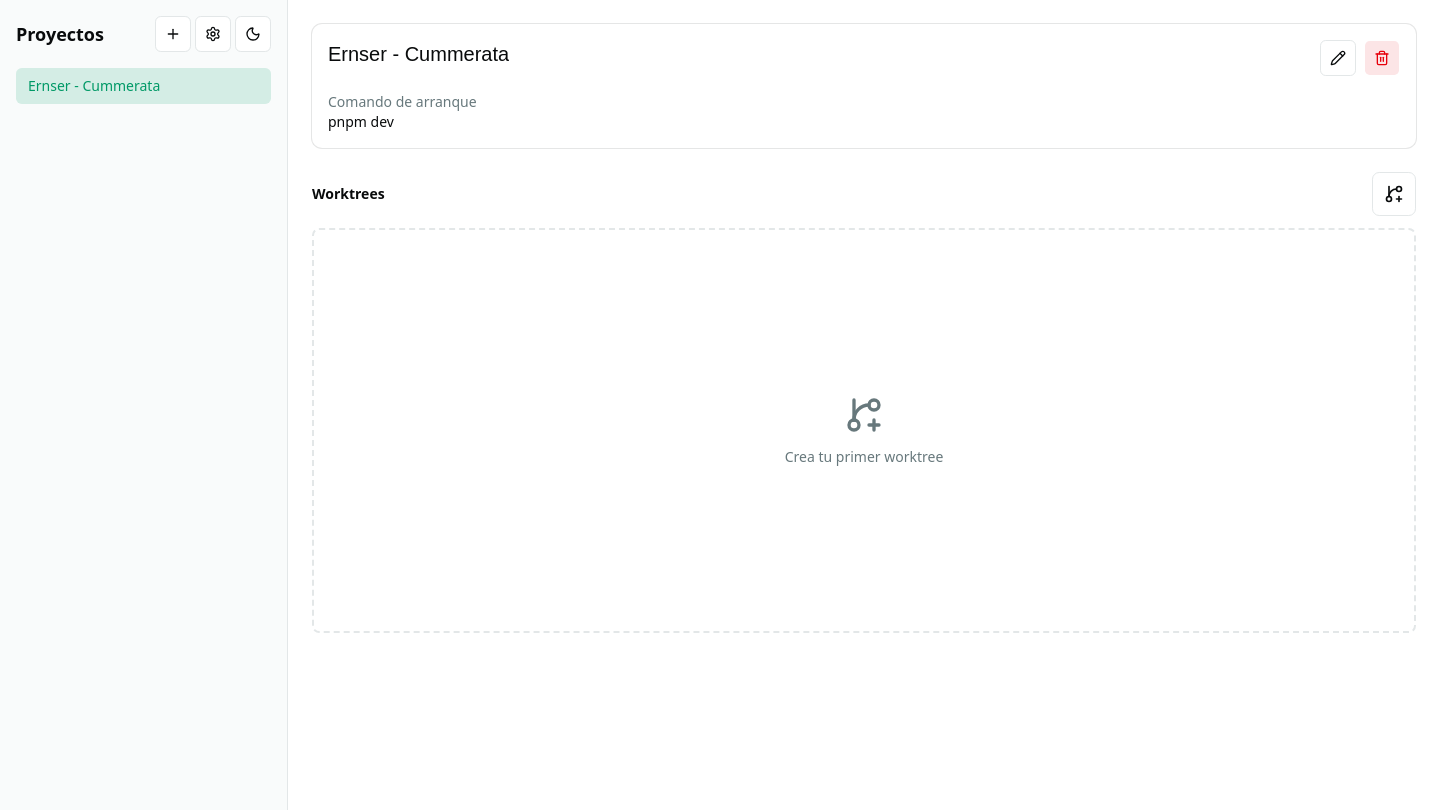
Test: app routes › should set the project's post-create command when the edit form is submitted
Click the button named "Editar proyecto". click: (1338, 58)
box: top-left (1320, 40), bottom-right (1356, 76)
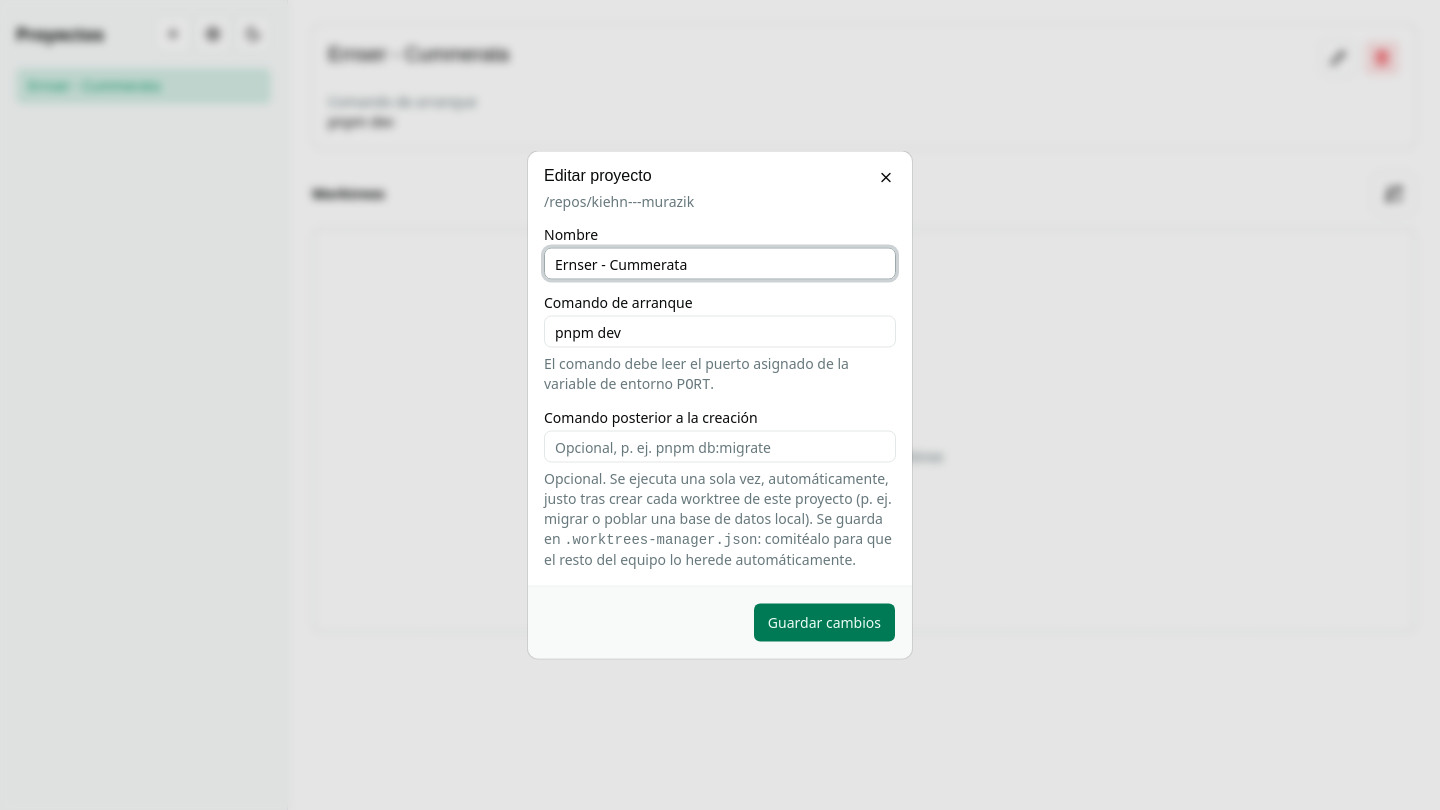
Type "pnpm db:migrate" into the field labelled "Comando posterior a la creación". click: (720, 446)
box: top-left (544, 430), bottom-right (896, 462)
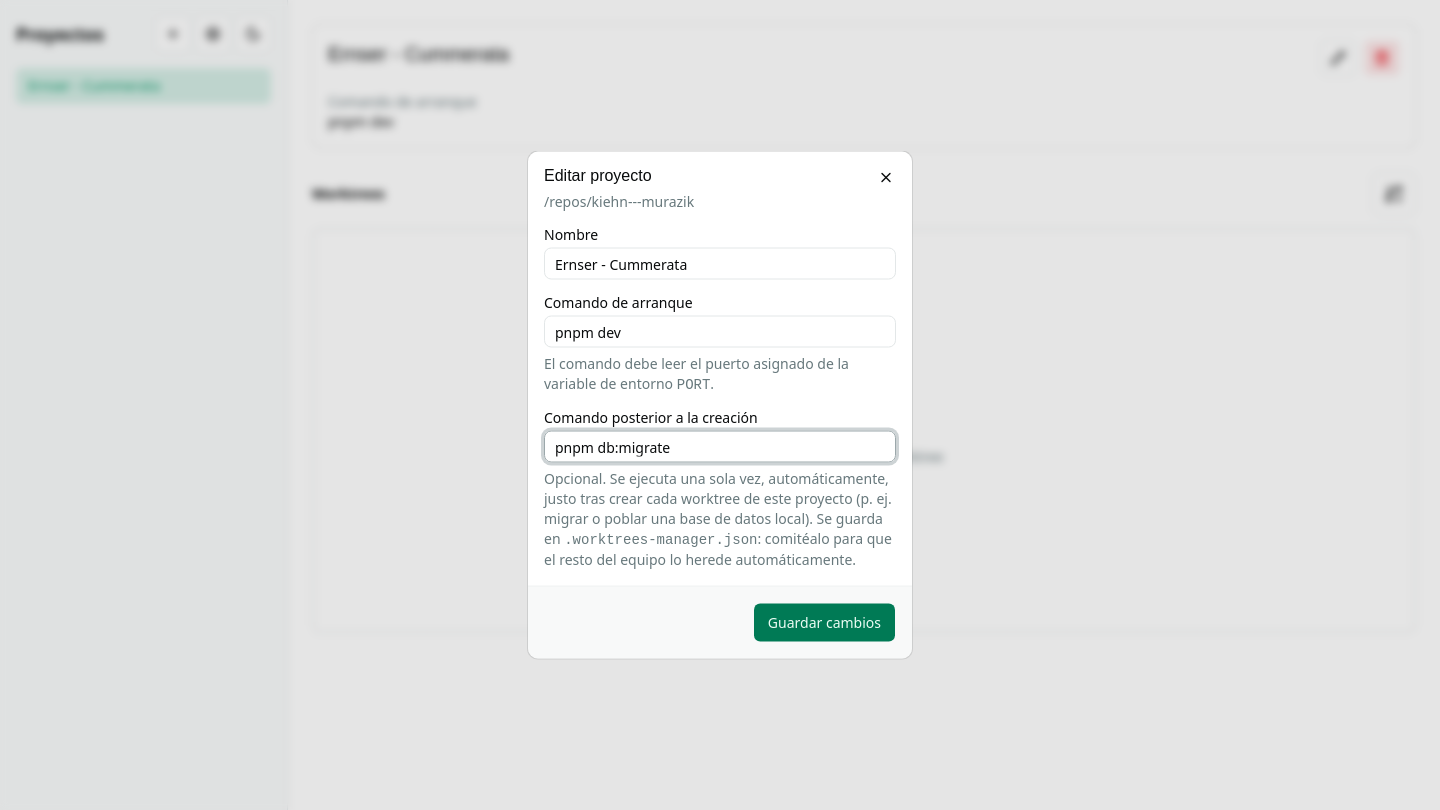
Click the button "Guardar cambios". click: (824, 622)
box: top-left (753, 602), bottom-right (896, 642)
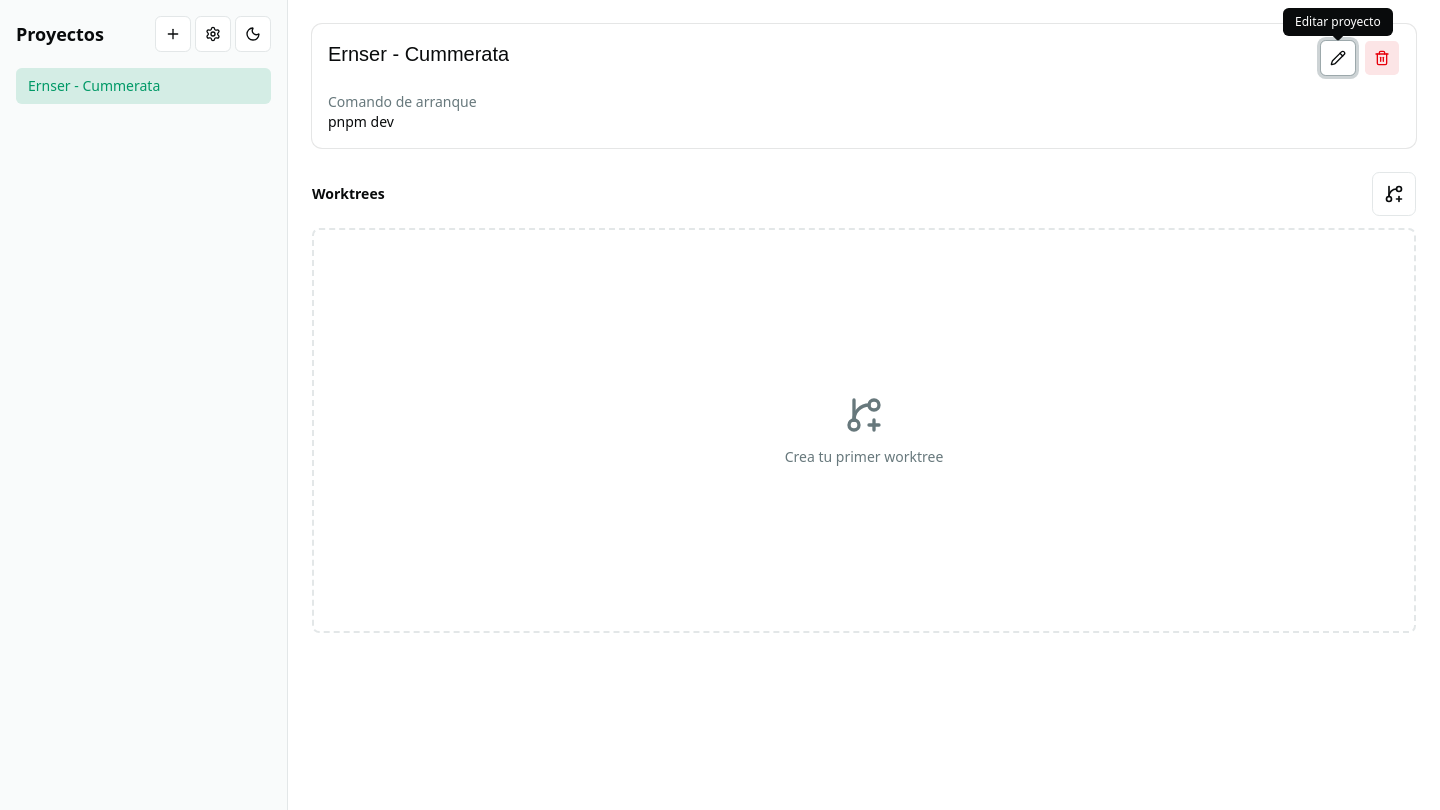
Now the label labelled "Comando posterior a la creación" is gone
Click the button named "Editar proyecto". click: (1338, 58)
box: top-left (1320, 40), bottom-right (1356, 76)
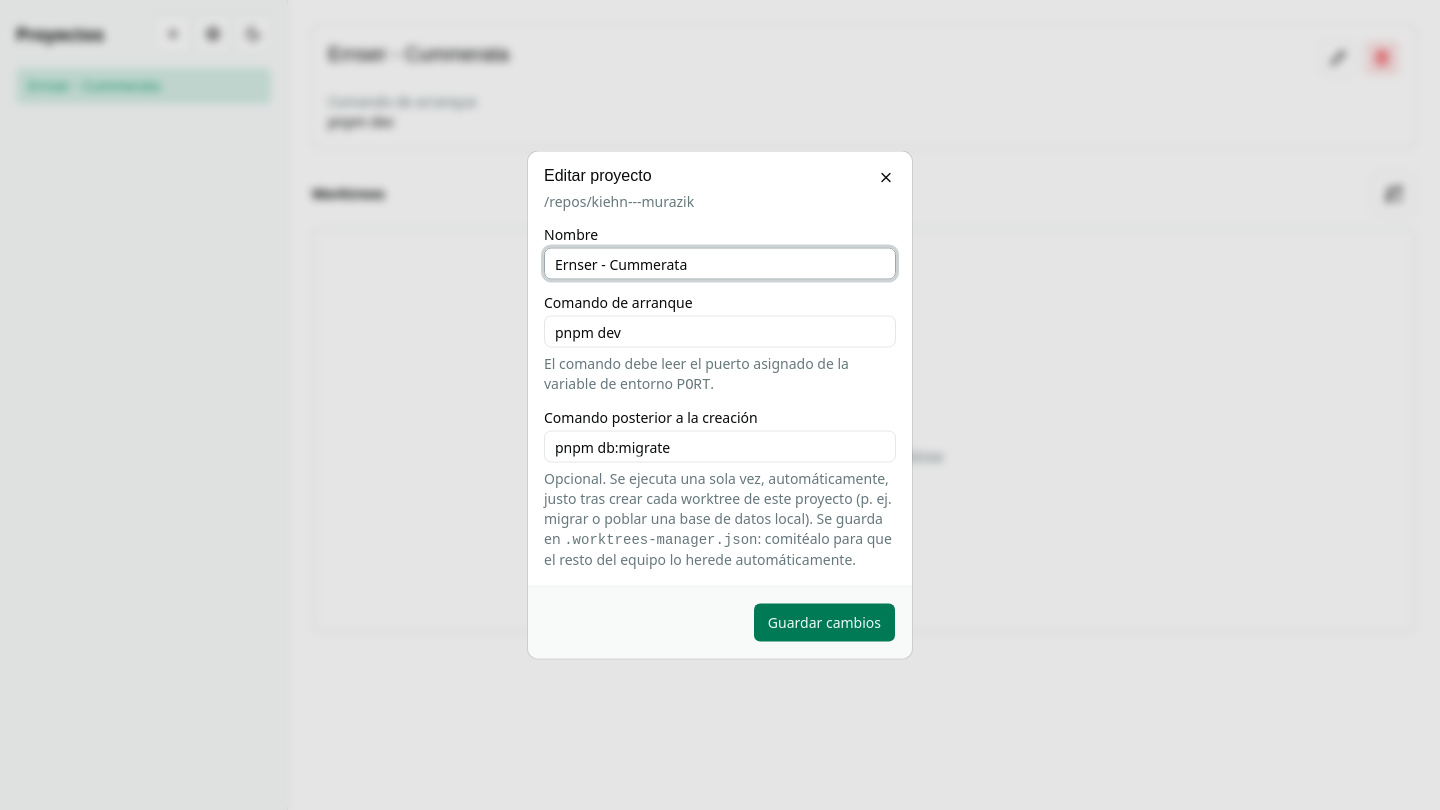
Now the field labelled "Comando posterior a la creación" holds "pnpm db:migrate", box top-left (544, 430), bottom-right (896, 462)
